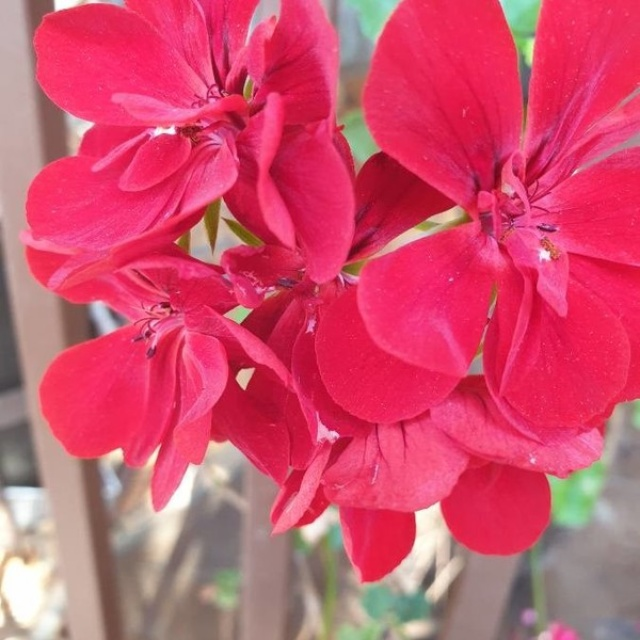obstacle: (53, 49, 614, 562)
